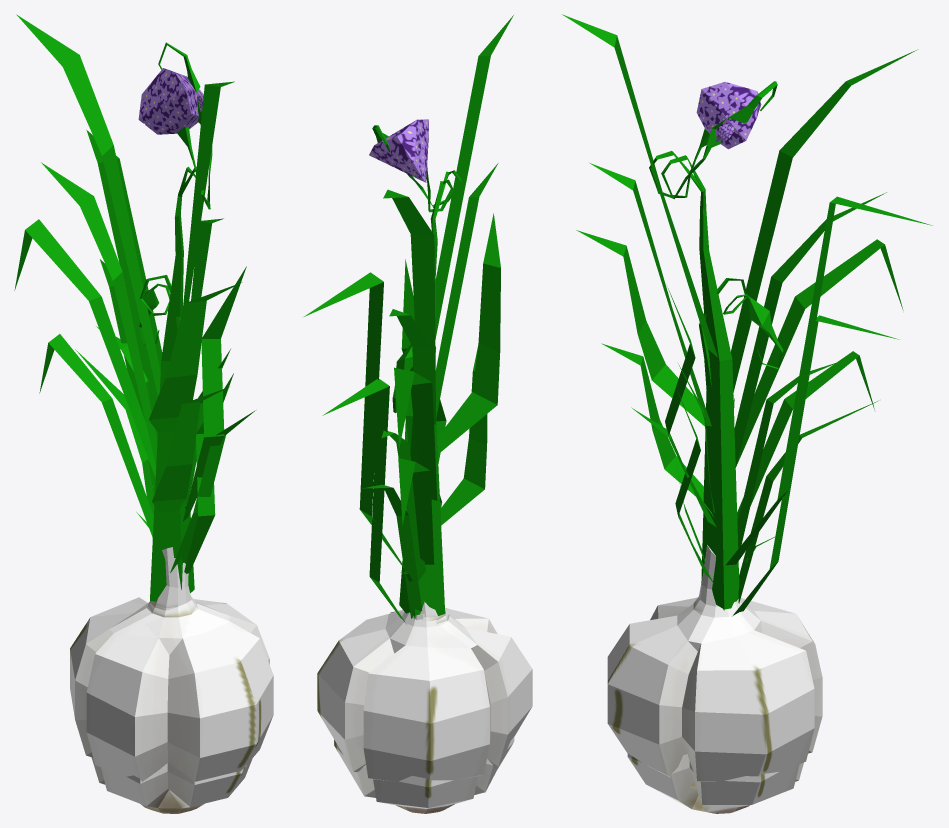
The model's file is Garlic.fbx.
3 renders of one model, left to right at view 1: azimuth 30°, elevation 25°; view 2: azimuth 150°, elevation 25°; view 3: azimuth 270°, elevation 25°, orthographic. The views are drawn at different scales.
Visible parts, largest first — view 1: AdultwithFlowerGarlic, AdultwithFruit, AdultGatlic, tennGarlic; view 2: AdultwithFlowerGarlic, AdultwithFruit, AdultGatlic, tennGarlic; view 3: AdultwithFlowerGarlic, AdultwithFruit, AdultGatlic, tennGarlic.
Part boxes in pixels (x1,y1,x2,y2): AdultwithFlowerGarlic: (15, 17, 273, 790); AdultwithFruit: (14, 14, 269, 780); AdultGatlic: (39, 162, 252, 813); tennGarlic: (75, 326, 255, 572); AdultwithFlowerGarlic: (304, 15, 532, 781); AdultwithFruit: (310, 105, 532, 781); AdultGatlic: (322, 163, 514, 813); tennGarlic: (362, 371, 425, 620); AdultwithFlowerGarlic: (562, 14, 931, 788); AdultwithFruit: (585, 49, 924, 784); AdultGatlic: (590, 163, 898, 813); tennGarlic: (631, 361, 878, 603).
Size of the model in its own units: 68.74 by 290 by 126.
